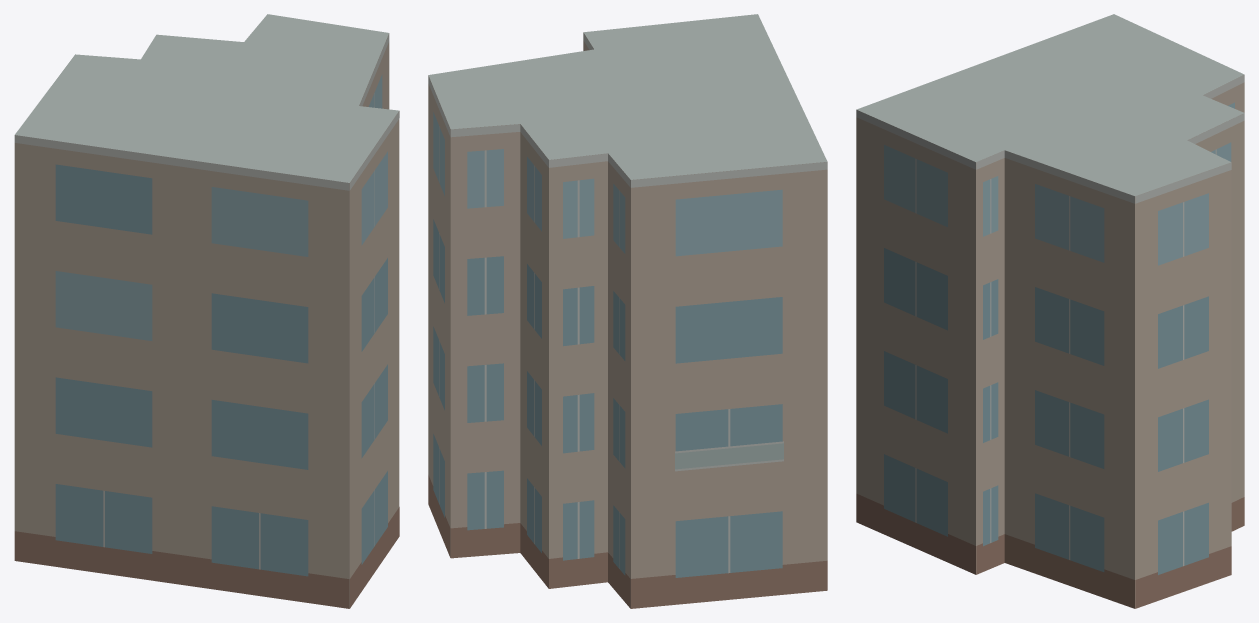
The model's file is survey-upis-32474082.glb.
The picture shows the model from 3 angles, left to right: view 1: azimuth 30°, elevation 25°; view 2: azimuth 150°, elevation 25°; view 3: azimuth 270°, elevation 25°; orthographic projection. The views are drawn at different scales.
Parts seen in each view (by area): view 1: survey-upis-32474082.tmp; view 2: survey-upis-32474082.tmp; view 3: survey-upis-32474082.tmp.
Part boxes in pixels (x1,y1,x2,y2): survey-upis-32474082.tmp: (14,14,399,608); survey-upis-32474082.tmp: (428,14,827,608); survey-upis-32474082.tmp: (856,14,1244,608).
Bounding box in the file's own units: 12.61 × 13.3 × 11.35.
